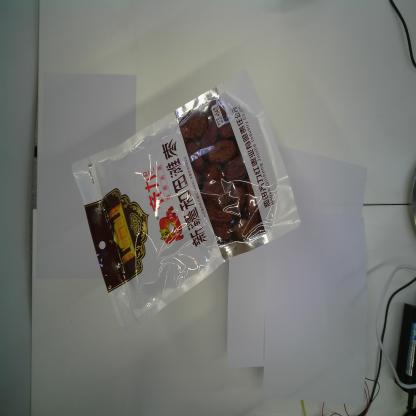Dried Food: (70, 65, 303, 333)
